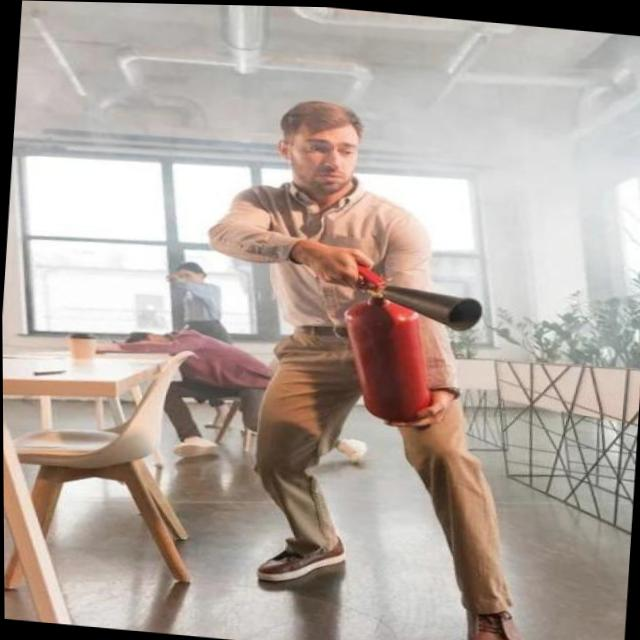FireExtinguisher: (303, 241, 495, 431)
